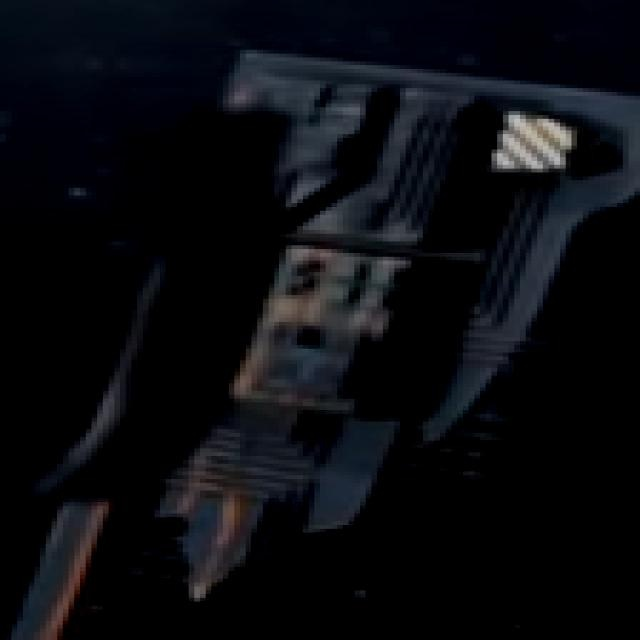large_debris: (3, 16, 640, 640)
